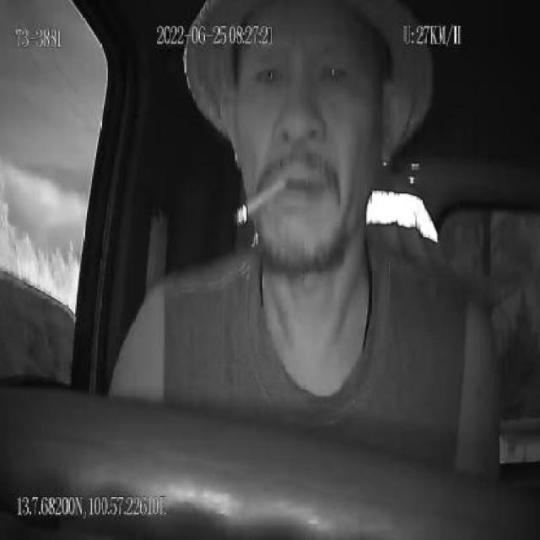smoking: (234, 172, 287, 226)
